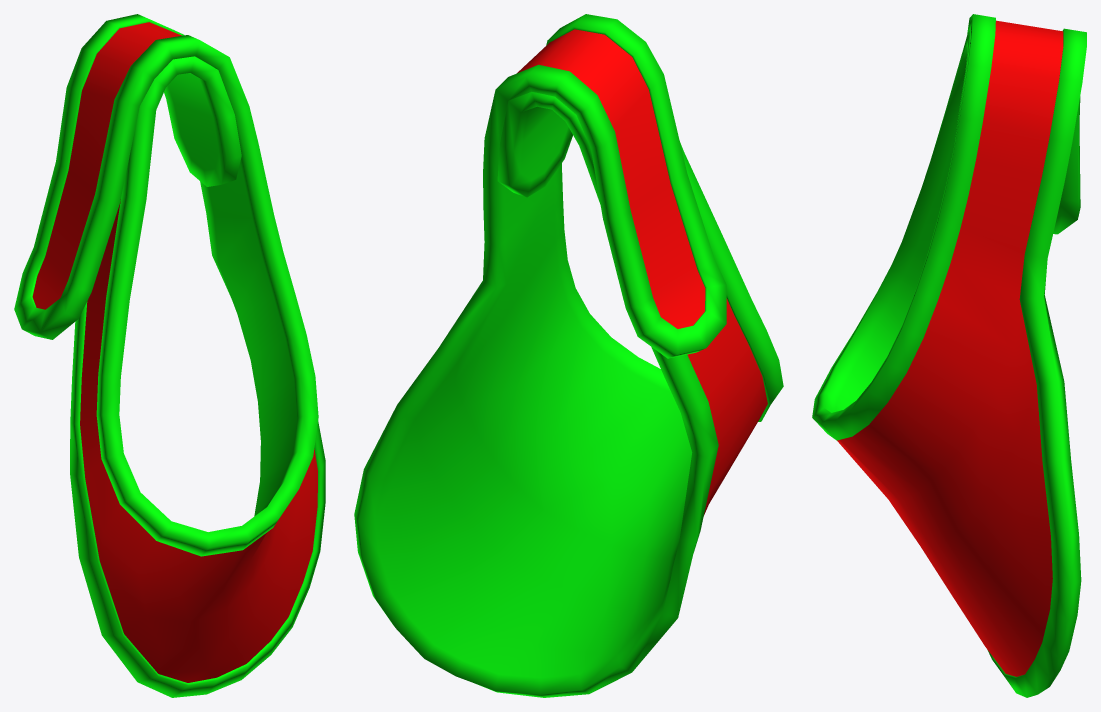
File: Safety_Thyroid.FBX
3 renders of one model, left to right at view 1: azimuth 30°, elevation 25°; view 2: azimuth 150°, elevation 25°; view 3: azimuth 270°, elevation 25°, orthographic. The views are drawn at different scales.
Parts seen in each view (by area): view 1: Thyroid Guard; view 2: Thyroid Guard; view 3: Thyroid Guard.
Part boxes in pixels (x1,y1,x2,y2): Thyroid Guard: (14,14,325,697); Thyroid Guard: (354,14,783,697); Thyroid Guard: (812,14,1086,697).
Bounding box in the file's own units: 5.48 × 10.79 × 4.23.
